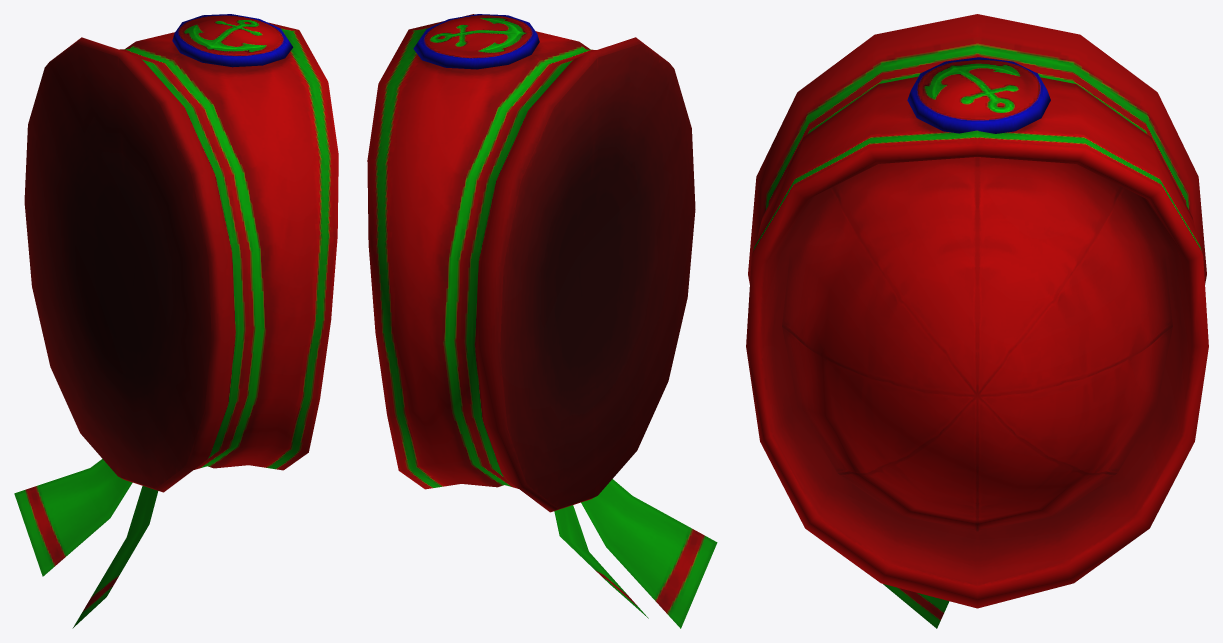
The picture shows the model from 3 angles, left to right: view 1: azimuth 30°, elevation 25°; view 2: azimuth 150°, elevation 25°; view 3: azimuth 270°, elevation 25°; orthographic projection. The views are drawn at different scales.
Parts seen in each view (by area): view 1: M1159; view 2: M1159; view 3: M1159.
Part boxes in pixels (x1,y1,x2,y2): M1159: [14, 14, 338, 628]; M1159: [367, 14, 717, 628]; M1159: [746, 14, 1208, 628].
Bounding box in the file's own units: 0.3072 × 0.6083 × 0.3893.
